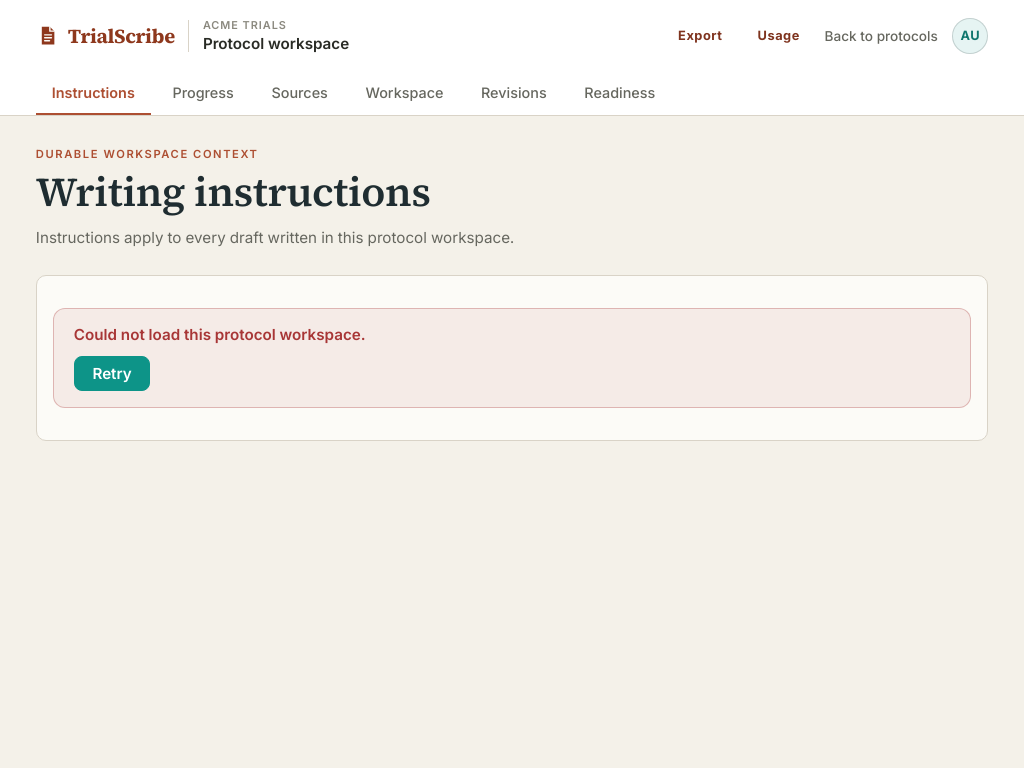
WorkspaceInstructionsPage › offers a working retry when the workspace fails to load
Expected: the text "Could not load this protocol workspace." is shown, [74, 325, 366, 344]
Click the button "Retry".
click(112, 374)  # box [74, 356, 150, 391]
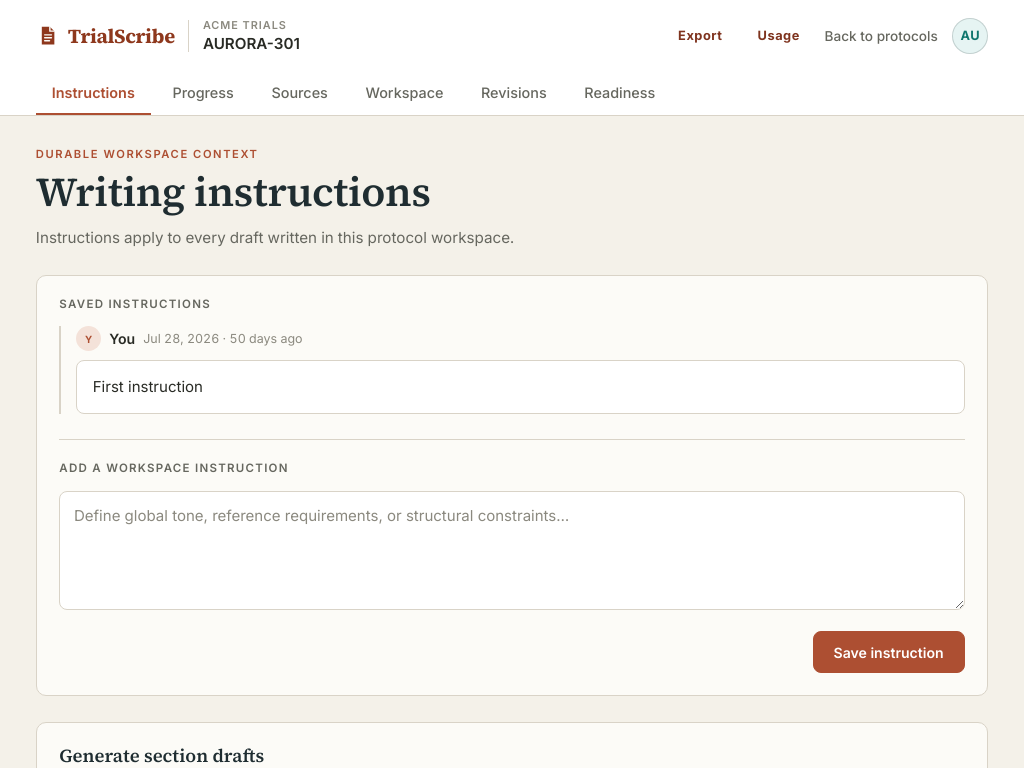
Expected: the text "First instruction" is shown, [76, 360, 965, 414]
